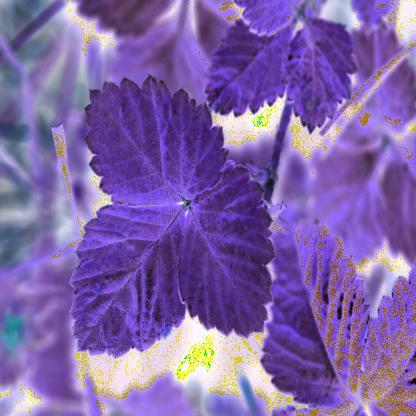Strawberry leaf: (66, 195, 208, 356), (83, 78, 227, 209), (170, 172, 272, 348)
